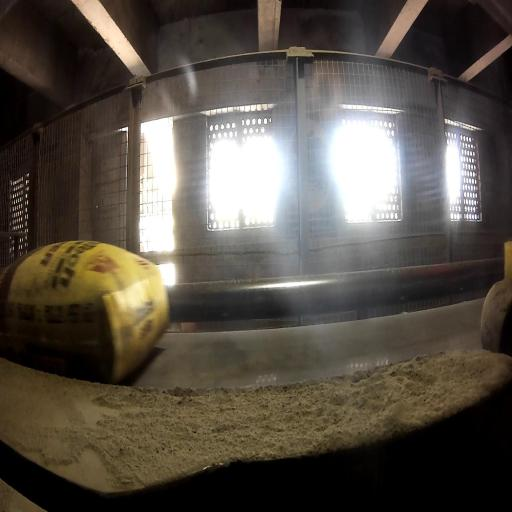c-belt-sack-count: (0, 240, 169, 383)
